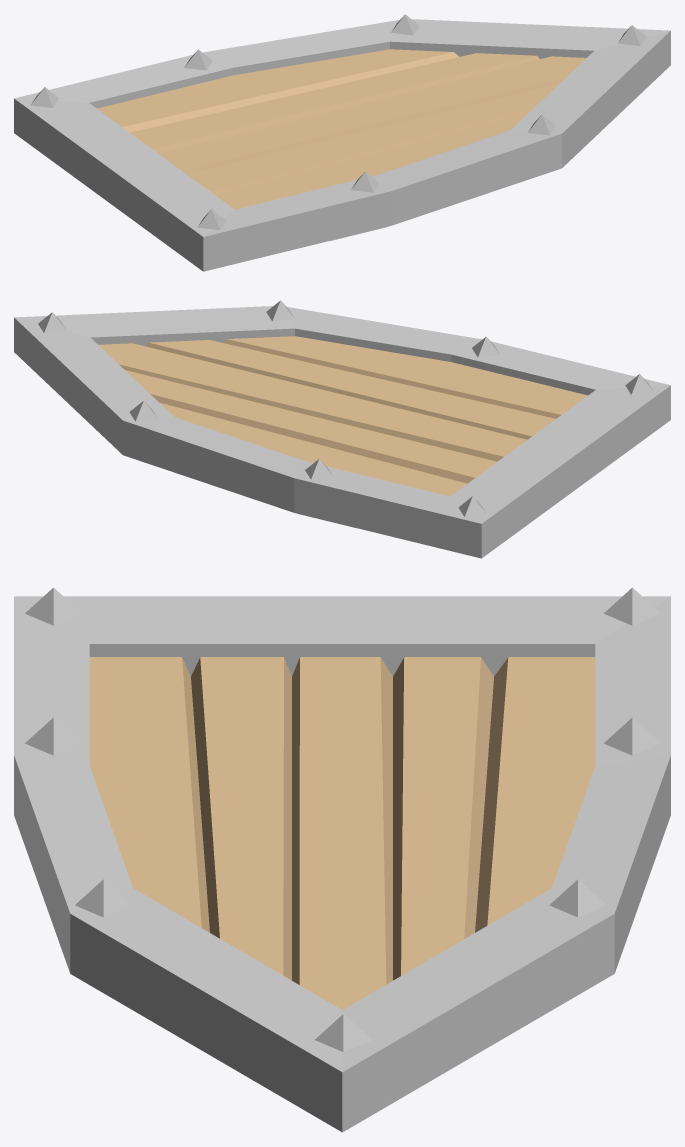
Rendered from Shield_4_b_wood.fbx.
3 renders of one model, top to bottom at view 1: azimuth 30°, elevation 25°; view 2: azimuth 150°, elevation 25°; view 3: azimuth 270°, elevation 25°, orthographic. The views are drawn at different scales.
Visible parts, largest first — view 1: Plane.003, Plane.002; view 2: Plane.003, Plane.002; view 3: Plane.003, Plane.002, Cone.007, Cone.006, Cone.005, Cone.001, Cone, Cone.004, Cone.003.
Boxes of the visible parts, x1,y1,x2,y2 form: Plane.003: (14,19,670,271); Plane.002: (97,49,586,209); Plane.003: (14,306,670,558); Plane.002: (98,336,587,496); Plane.003: (14,596,670,1132); Plane.002: (89,657,595,1009); Cone.007: (315,1014,371,1051); Cone.006: (549,879,606,917); Cone.005: (75,879,131,917); Cone.001: (25,717,81,755); Cone: (604,717,660,755); Cone.004: (604,587,660,625); Cone.003: (25,587,81,625).
Bounding box in the file's own units: 78 × 16.16 × 45.5.
